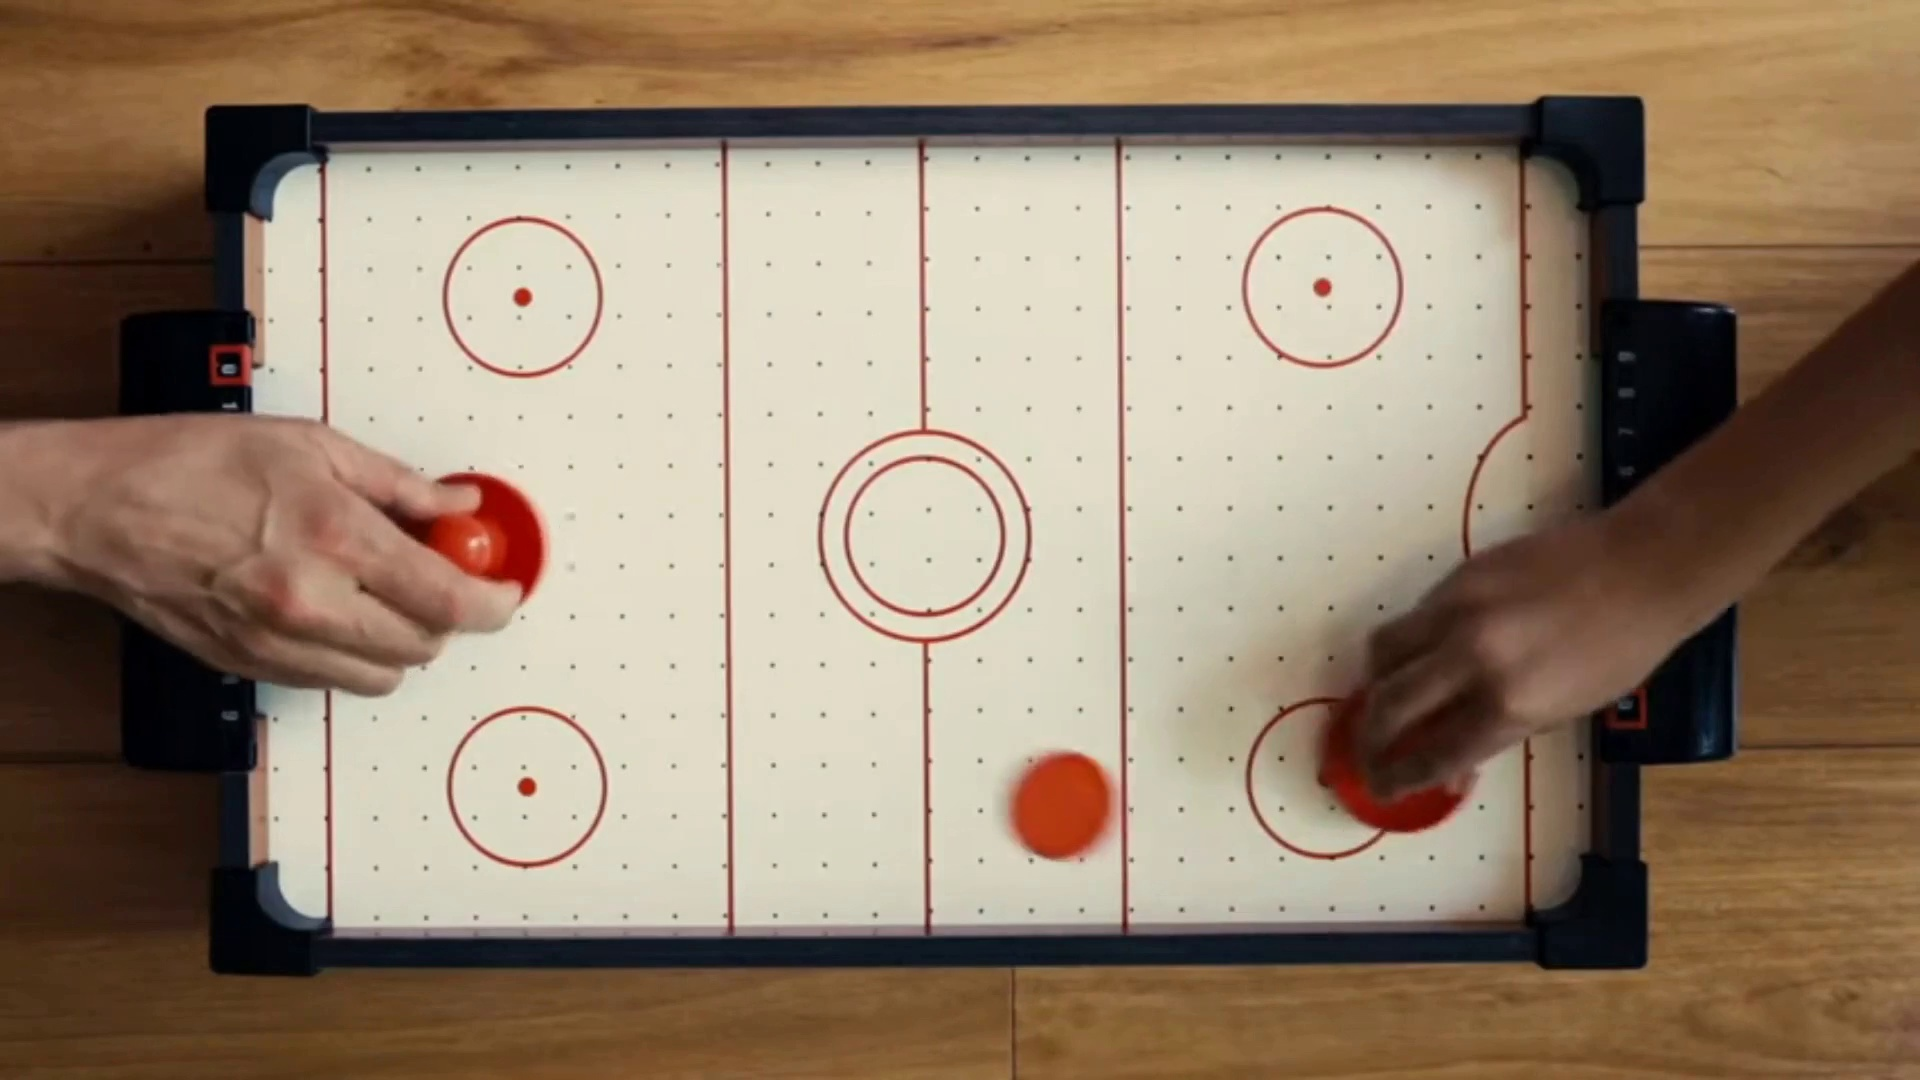player: (1322, 685, 1471, 830), (404, 476, 549, 619)
puck: (1014, 750, 1120, 864)
table: (261, 146, 1603, 933)
